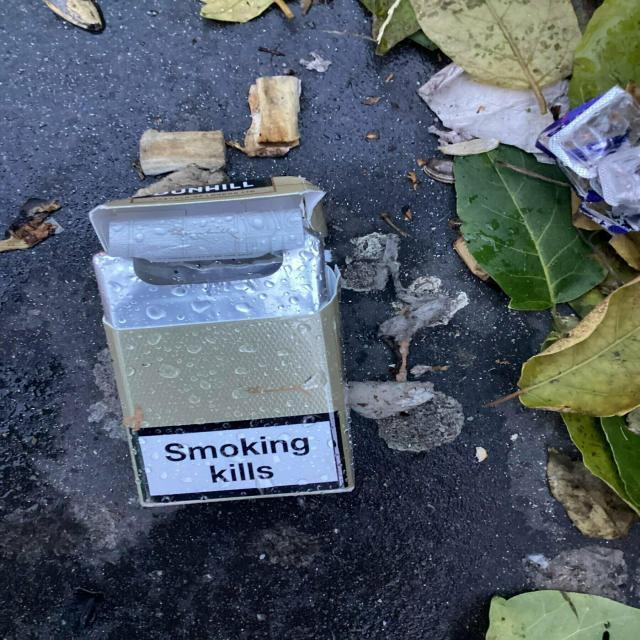Paper: (87, 173, 360, 512)
